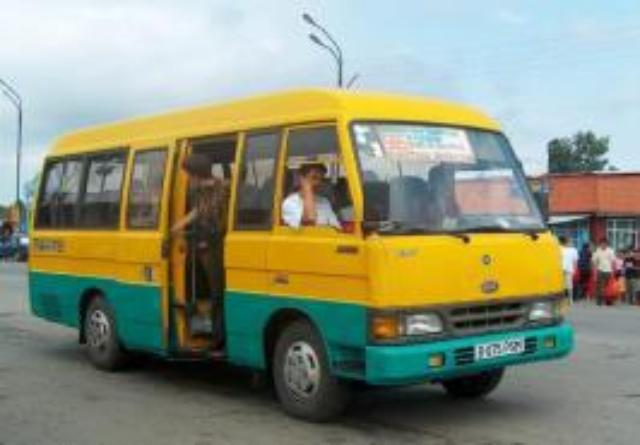bus: (26, 84, 582, 423)
